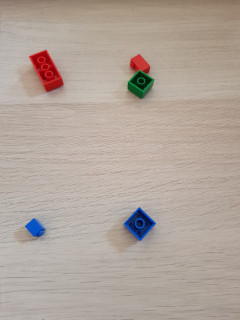1x1 blue: (25, 218, 47, 240)
1x2 red: (129, 53, 152, 73)
2x2 blue: (123, 206, 158, 242)
2x2 green: (127, 71, 154, 99)
2x4 red: (28, 48, 66, 92)
